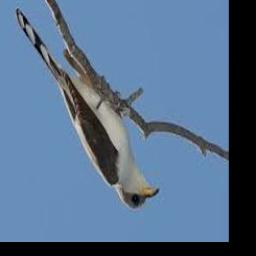Cuckoo: (16, 7, 159, 210)
